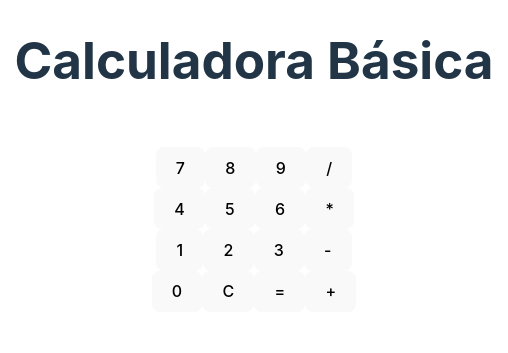
Test case: Calculadora Básica › realiza una resta correctamente
Click the button "5": (230, 209) [205,188,255,230]
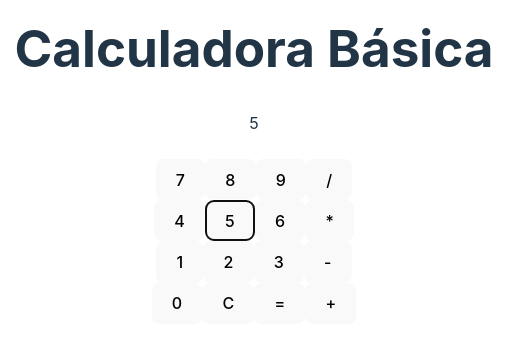
Click the button "-": (328, 262) [304,242,352,283]
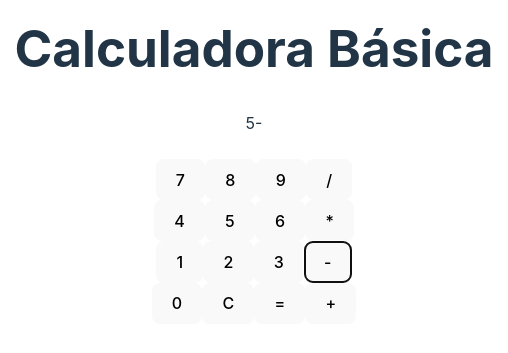
Click the button "3": (279, 262) [254,242,304,283]
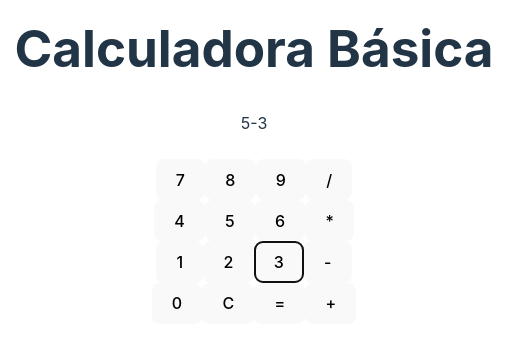
Click the button "=": (280, 303) [254,283,305,324]
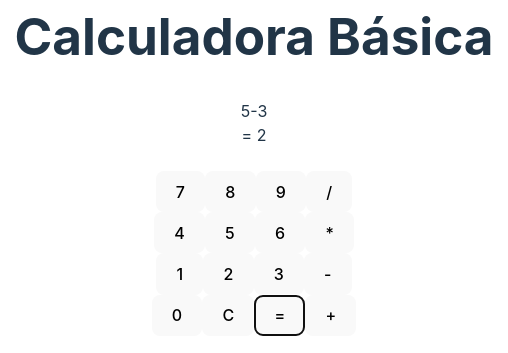
Check: the text "= 2" is shown, box [242,125,266,145]
